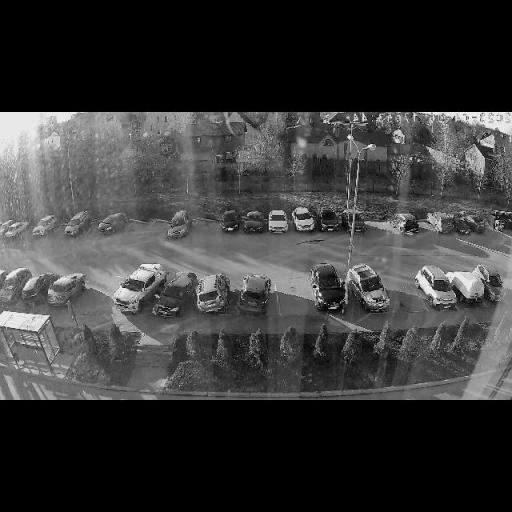busy: (108, 264, 164, 314), (347, 259, 391, 314), (148, 271, 196, 318), (413, 266, 462, 310), (306, 263, 350, 310), (232, 273, 276, 314), (187, 274, 232, 314), (40, 274, 86, 306), (471, 264, 508, 301), (454, 270, 493, 304), (426, 211, 470, 235), (18, 275, 54, 304), (55, 212, 94, 238), (159, 211, 193, 239), (92, 213, 129, 237), (2, 270, 26, 304), (290, 206, 320, 232), (455, 213, 489, 235), (390, 214, 423, 236), (215, 210, 244, 234), (27, 216, 58, 237), (265, 211, 293, 234), (316, 210, 345, 232), (240, 212, 268, 234), (0, 222, 27, 239)
free: (272, 273, 315, 316), (382, 270, 424, 312), (76, 274, 114, 312), (124, 214, 152, 242), (147, 219, 173, 242), (194, 214, 217, 238), (416, 216, 437, 237), (51, 218, 71, 240), (364, 217, 384, 237), (84, 220, 103, 238), (22, 221, 37, 240)
